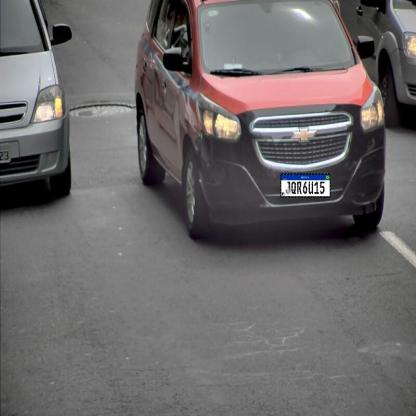PlacaM: (280, 173, 331, 198)
